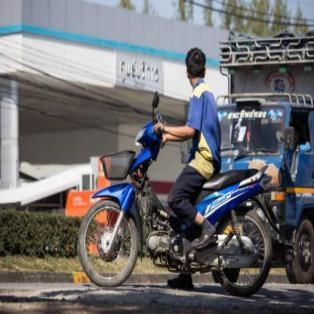Motocicleta: (77, 105, 271, 301)
